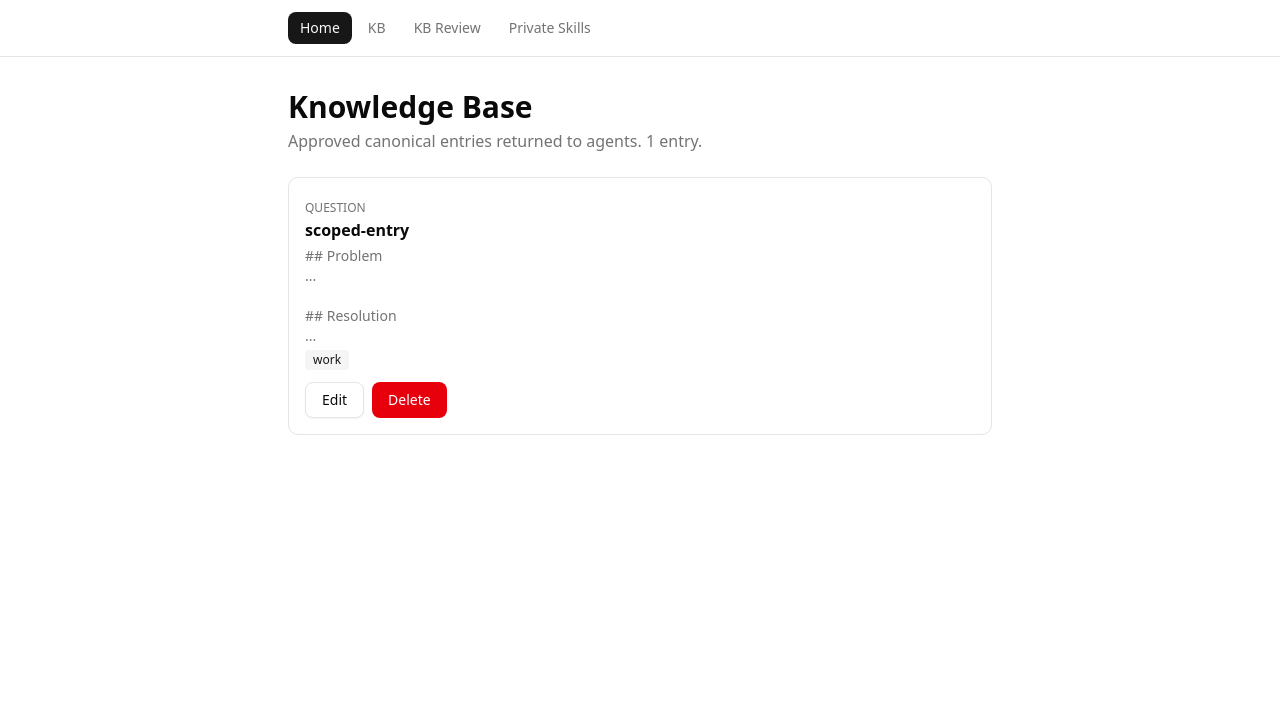
Test case: KB browse screen › shows the Global badge immediately after a reviewer clears an approved entry's scope
Click the button "Edit": (335, 400) left=305, top=382, right=364, bottom=418
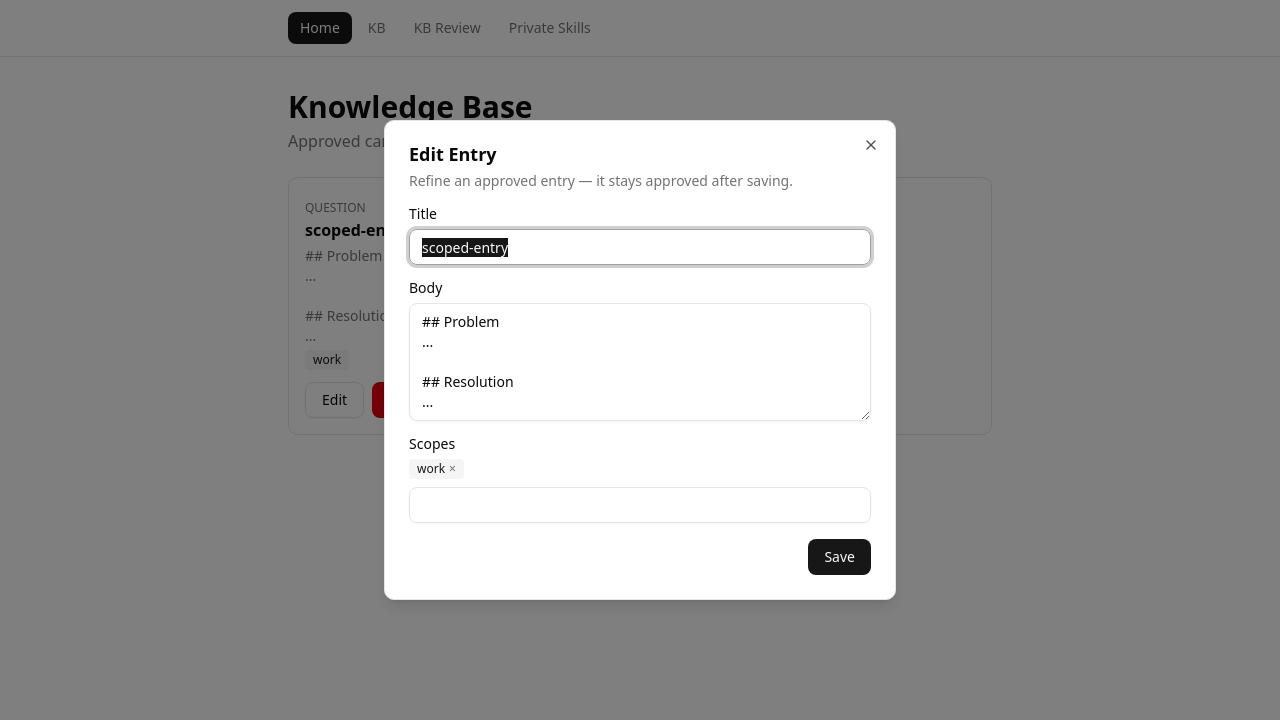
The reviewer removes the only scope chip, making the entry global.
Click the button named "Remove work": (453, 469) left=449, top=461, right=456, bottom=477
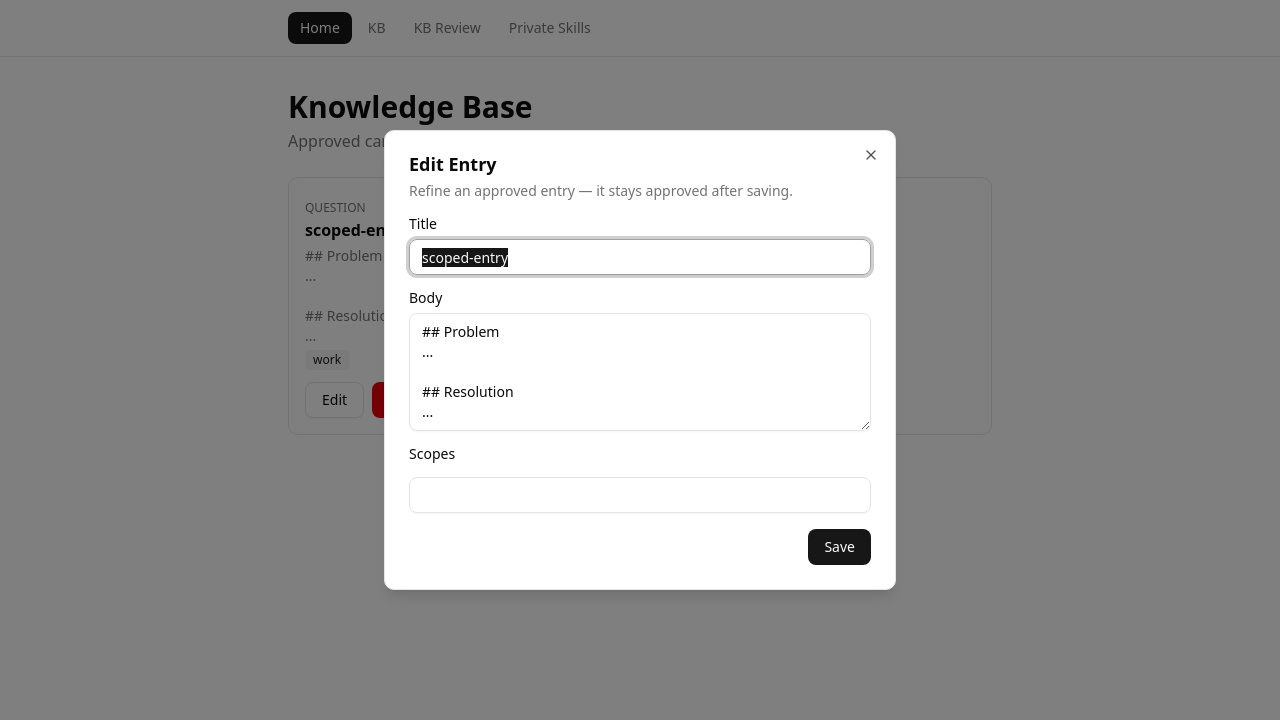
Click the button "Save": (840, 547) left=808, top=529, right=871, bottom=565
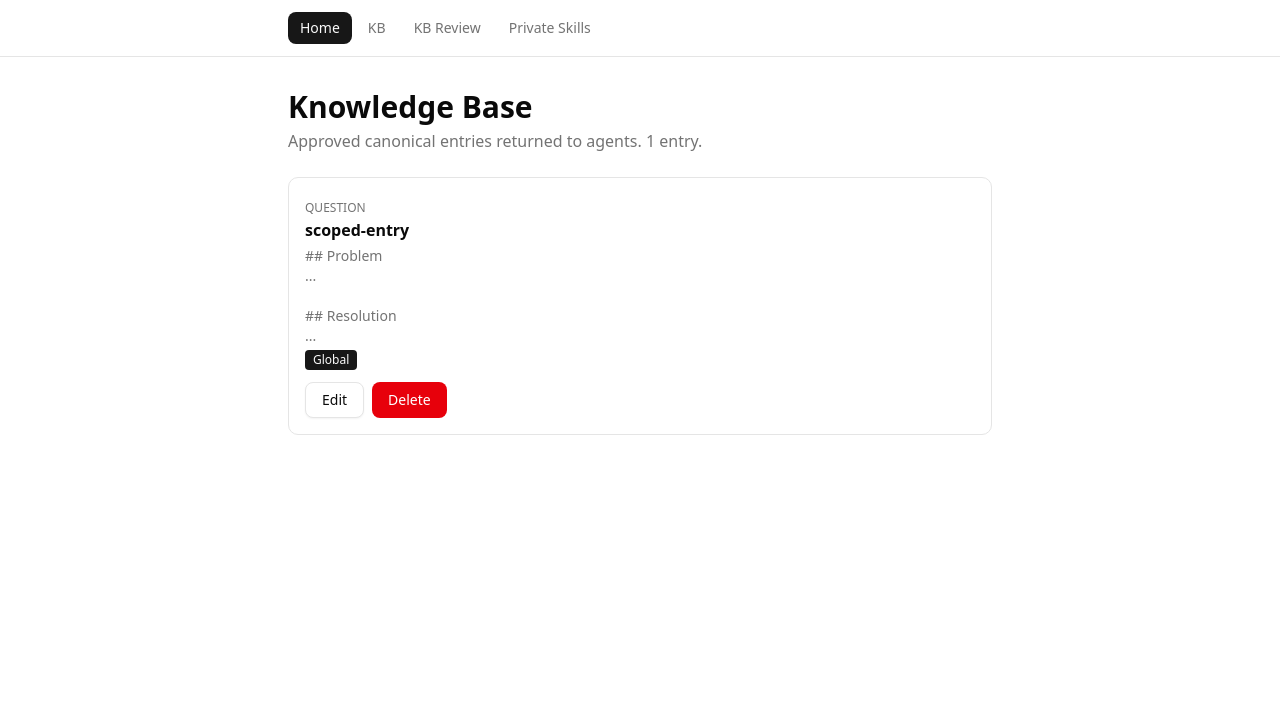
Expected: the text "Global" is shown once, left=305, top=350, right=357, bottom=370
Expected: the text "work" is gone
